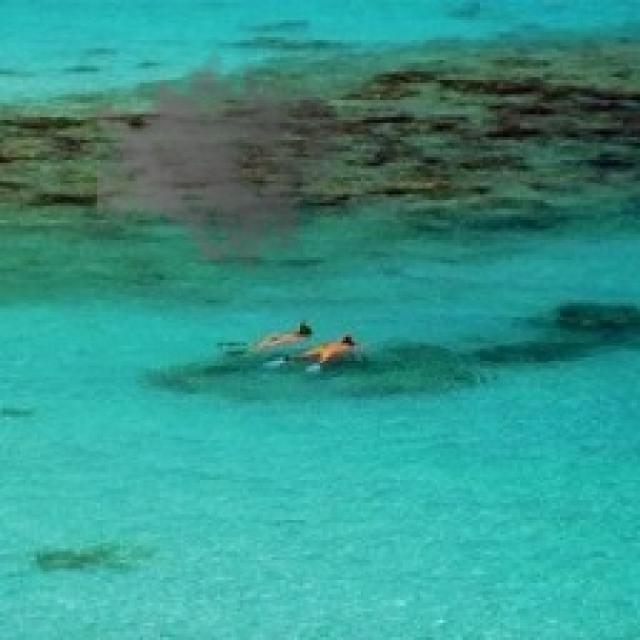smoke: (97, 37, 343, 277)
